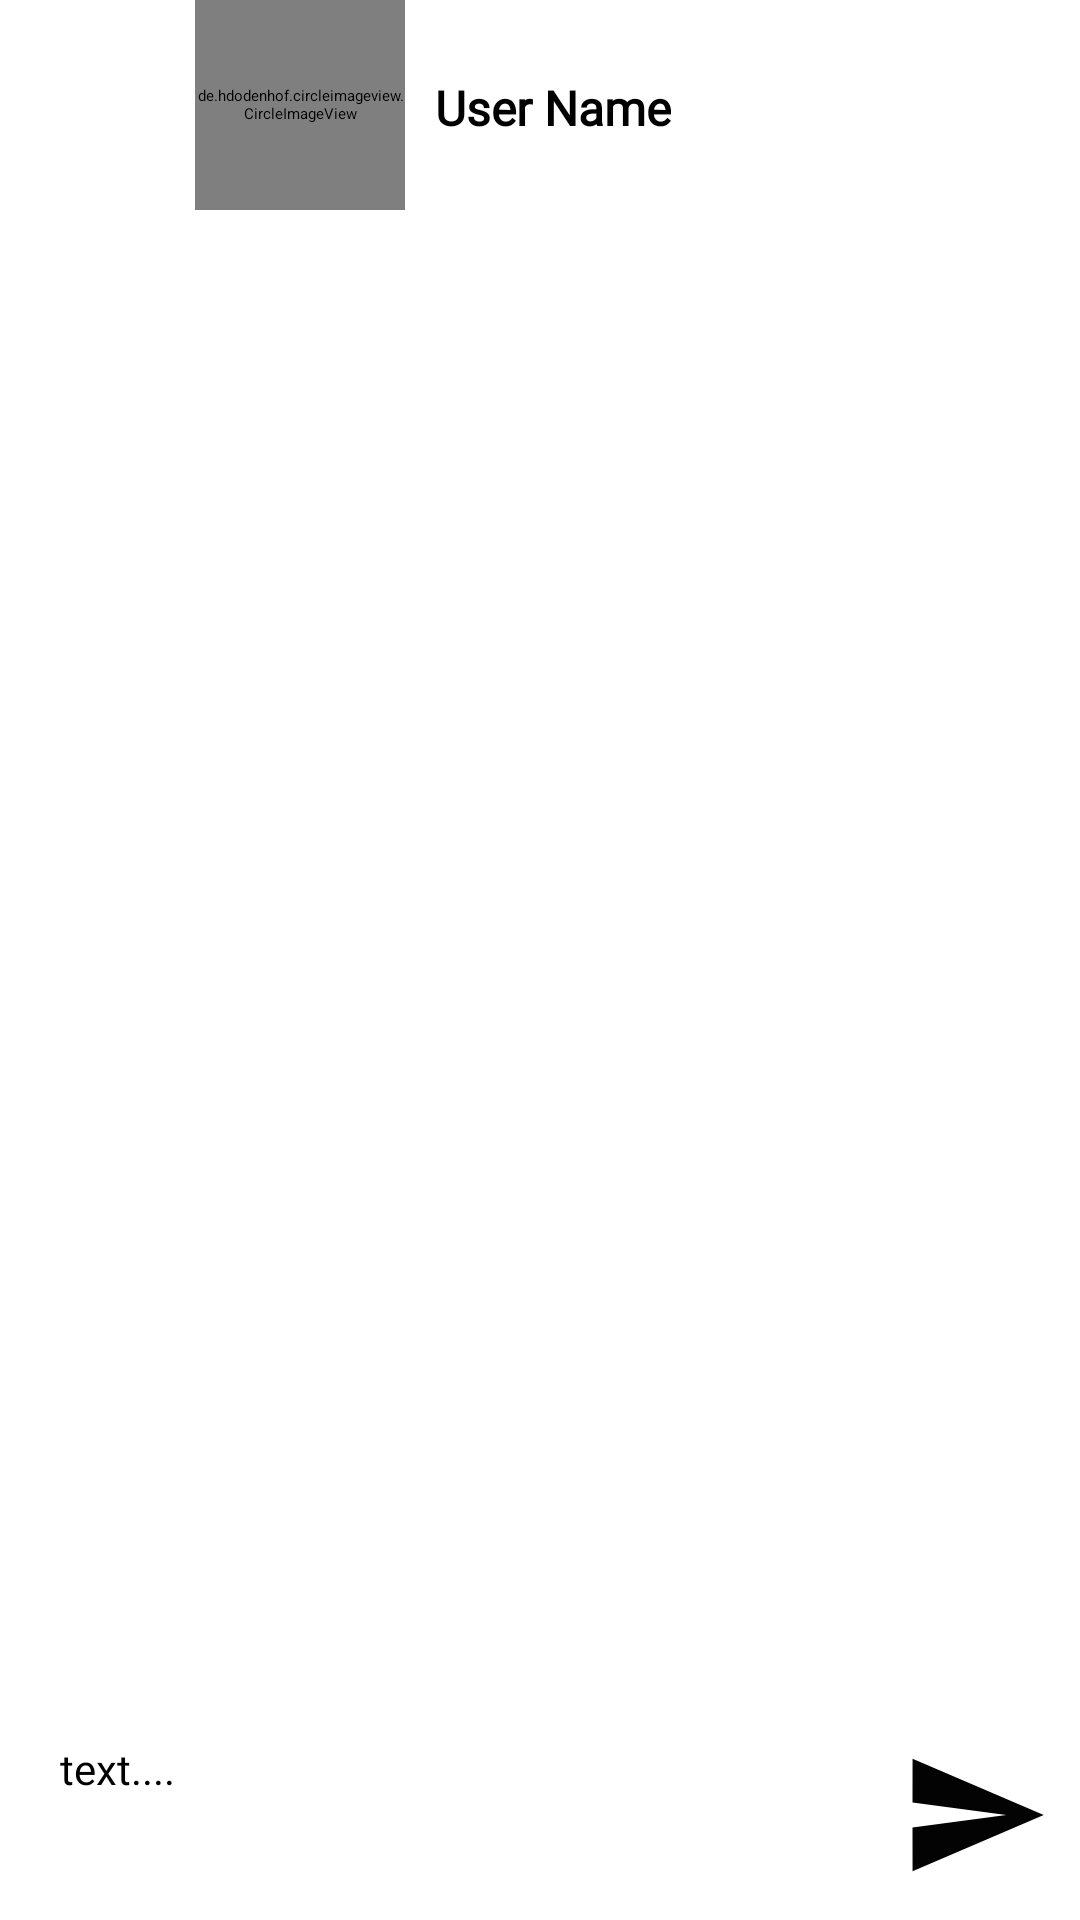

Screen size 1080x1920. Icon name, then its center in pixels as point (x, y):
send: point (978, 1815)
